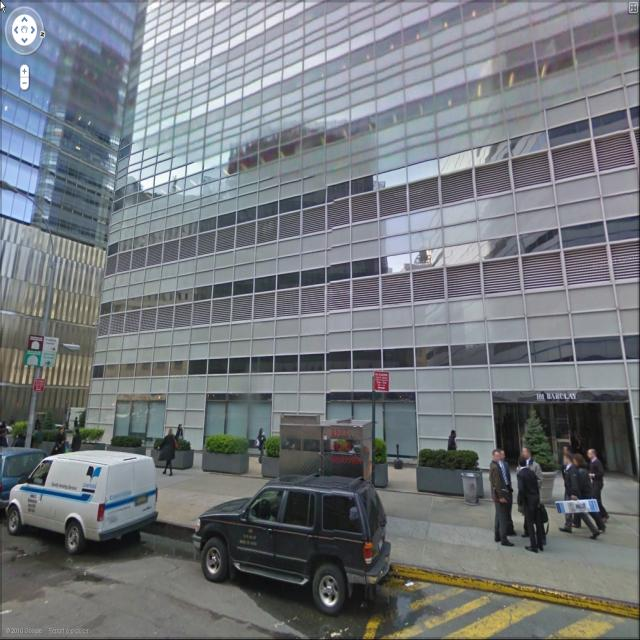b_1: (92, 6, 633, 439), (0, 3, 127, 440)
